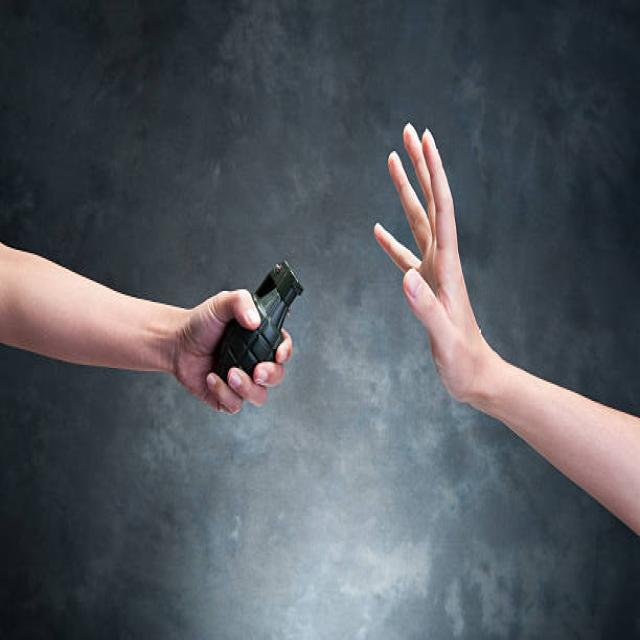grenade: (216, 257, 305, 378)
